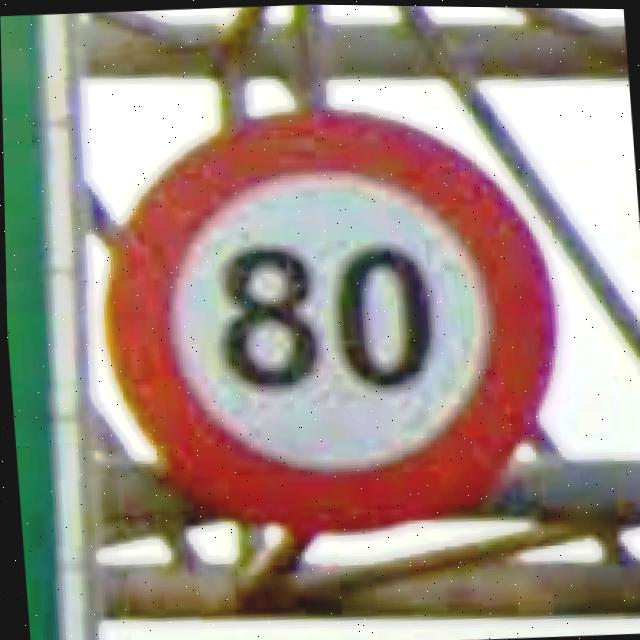max80: (75, 86, 575, 550)
